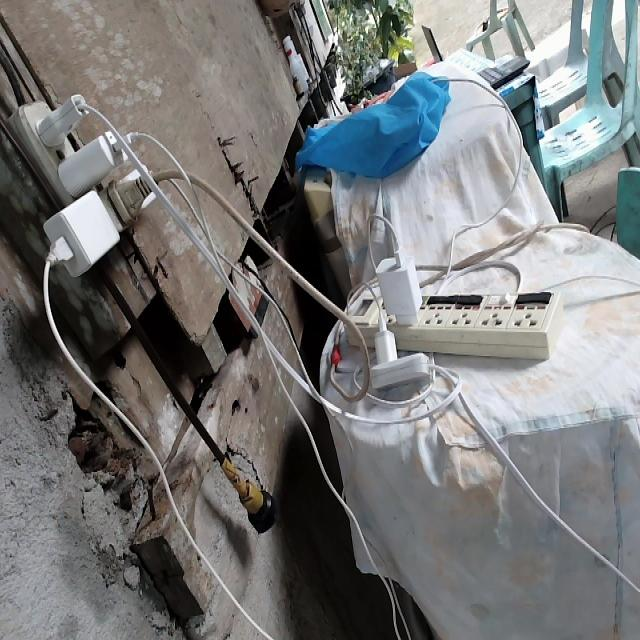-: (12, 90, 165, 278)
